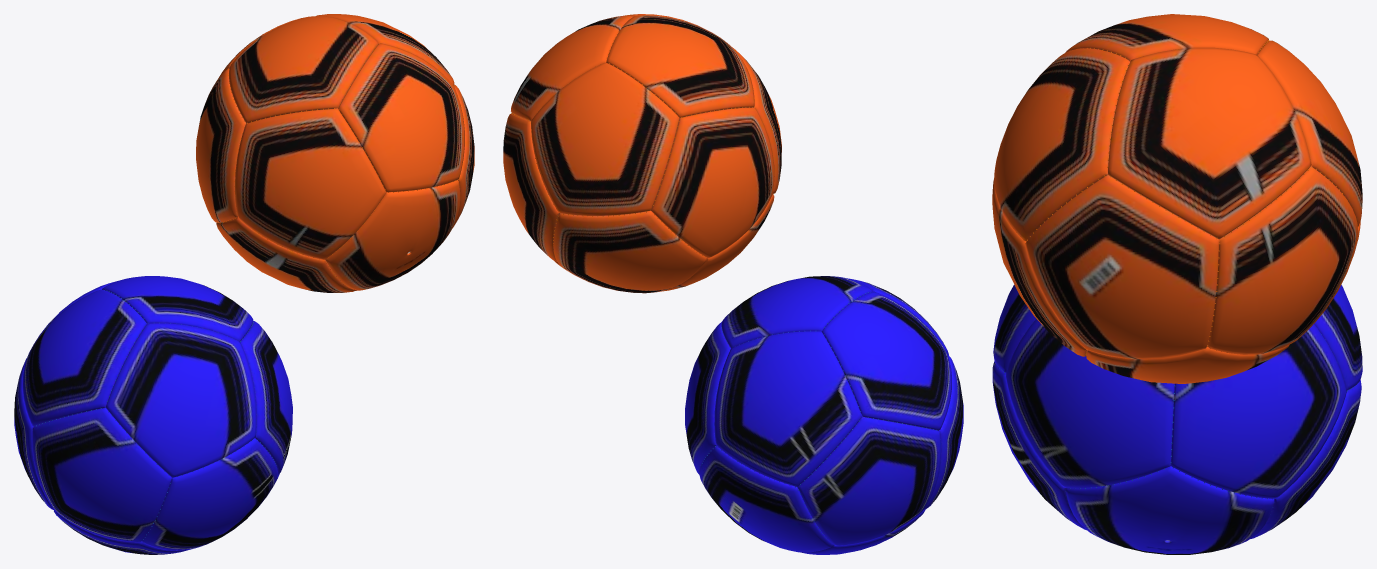
The model's file is BlueAndBlack.glb.
The picture shows the model from 3 angles, left to right: view 1: azimuth 30°, elevation 25°; view 2: azimuth 150°, elevation 25°; view 3: azimuth 270°, elevation 25°; orthographic projection. The views are drawn at different scales.
Parts seen in each view (by area): view 1: Ball_Orange_2, Ball_Orange; view 2: Ball_Orange, Ball_Orange_2; view 3: Ball_Orange, Ball_Orange_2.
Boxes of the visible parts, left/top/right/bottom form: Ball_Orange_2: left=14, top=276, right=292, bottom=554; Ball_Orange: left=196, top=14, right=474, bottom=292; Ball_Orange: left=503, top=14, right=781, bottom=293; Ball_Orange_2: left=685, top=276, right=963, bottom=554; Ball_Orange: left=992, top=14, right=1362, bottom=383; Ball_Orange_2: left=992, top=285, right=1362, bottom=554.
Size of the model in its own units: 0.438 by 0.4649 by 0.2502.
2 materials, 2 textured.
